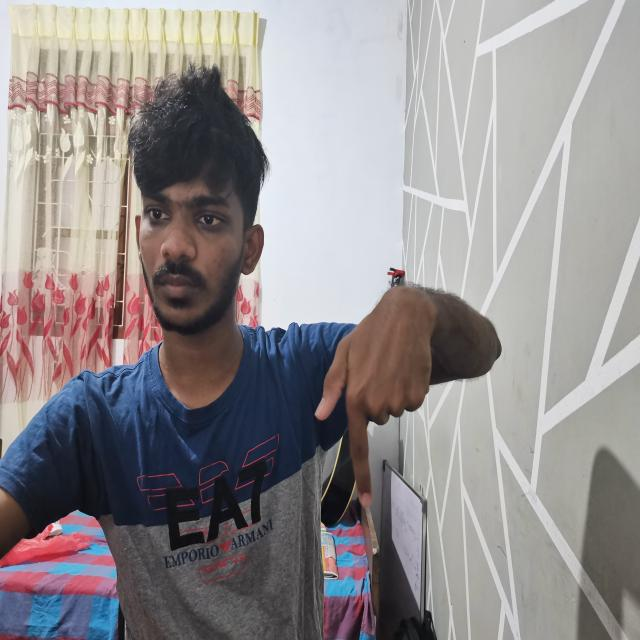Yes: (304, 262, 465, 544)
